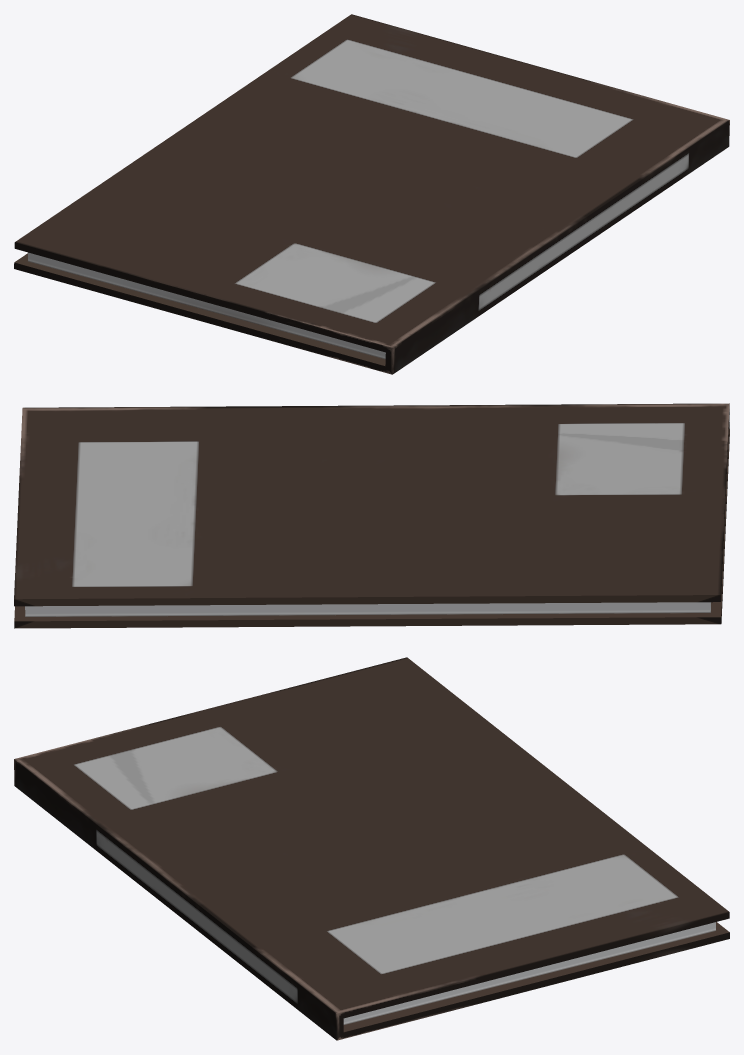
Rendered from ShaShouJia_01_bijiben_01.FBX.
The picture shows the model from 3 angles, top to bottom: view 1: azimuth 30°, elevation 25°; view 2: azimuth 150°, elevation 25°; view 3: azimuth 270°, elevation 25°; orthographic projection. The views are drawn at different scales.
Parts seen in each view (by area): view 1: ShaShouJia_01_bijiben_01; view 2: ShaShouJia_01_bijiben_01; view 3: ShaShouJia_01_bijiben_01.
Boxes of the visible parts, <box> form: ShaShouJia_01_bijiben_01: <box>14,14,729,374</box>; ShaShouJia_01_bijiben_01: <box>14,403,729,628</box>; ShaShouJia_01_bijiben_01: <box>14,657,729,1040</box>.
Bounding box in the file's own units: 209 × 13.23 × 187.
